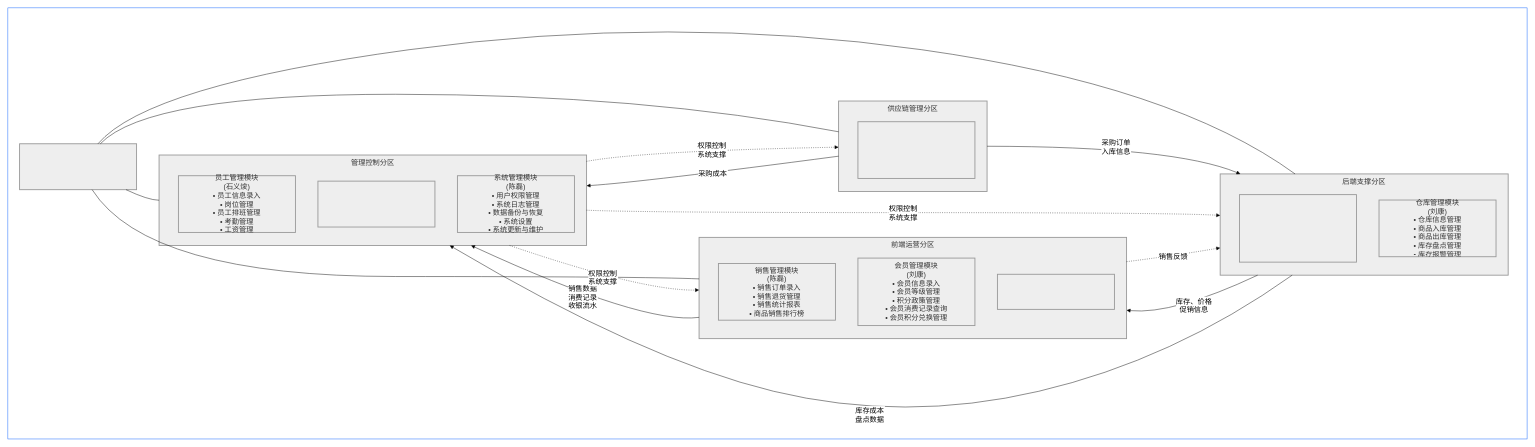
Image size: 1535x447. Some labels were removed from this diagram. The box of each missing label's shape, as (x1, y1, x2, y2) in pixels:
供应商管理模块 (罗龙飞) • 供应商信息录入 • 供应商合同管理 • 供应商评价管理 • 采购订单管理: (857, 121, 975, 179)
商品管理模块 (罗龙飞) • 商品信息录入 • 商品分类管理 • 商品价格管理 • 促销活动管理 • 商品库存管理: (1239, 194, 1357, 262)
收银管理 (财务模块子功能): (997, 274, 1115, 310)
财务管理模块 (石义焌) • 财务报表生成 • 成本核算 • 预算管理 • 税务管理: (317, 180, 435, 227)
超市管理系统: (19, 143, 137, 190)
